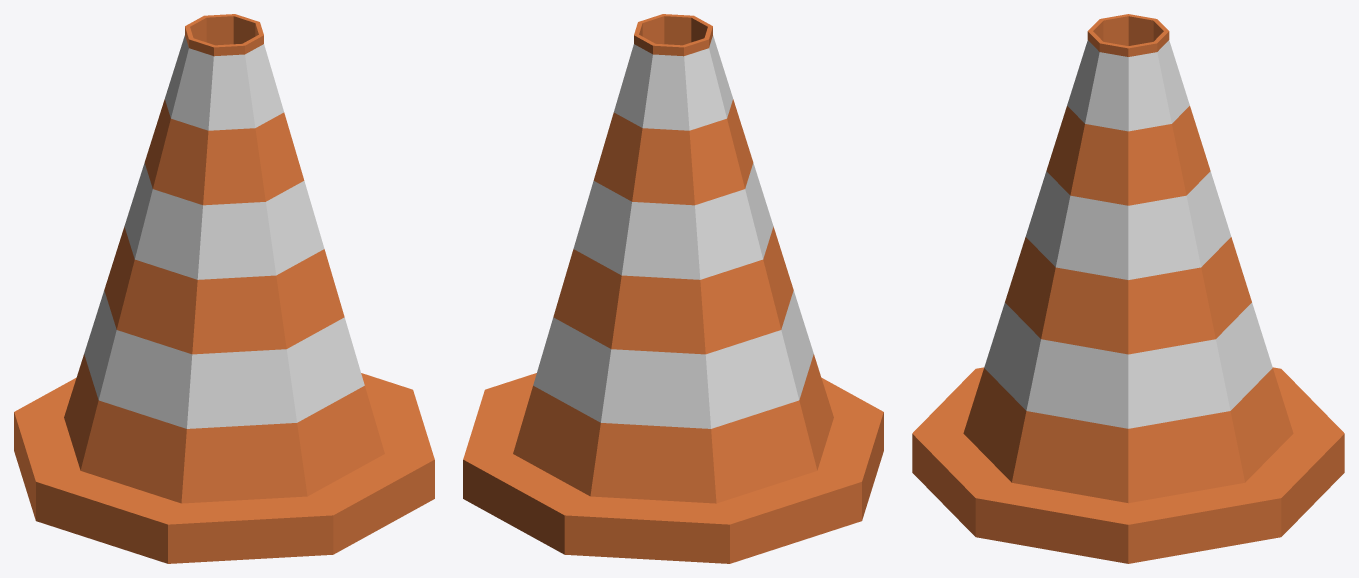
3 renders of one model, left to right at view 1: azimuth 30°, elevation 25°; view 2: azimuth 150°, elevation 25°; view 3: azimuth 270°, elevation 25°, orthographic.
Parts seen in each view (by area): view 1: Cylinder; view 2: Cylinder; view 3: Cylinder.
Boxes of the visible parts, x1,y1,x2,y2 form: Cylinder: (14,14,434,563); Cylinder: (463,14,883,563); Cylinder: (912,14,1344,563).
Bounding box in the file's own units: 200 × 225 × 200.
